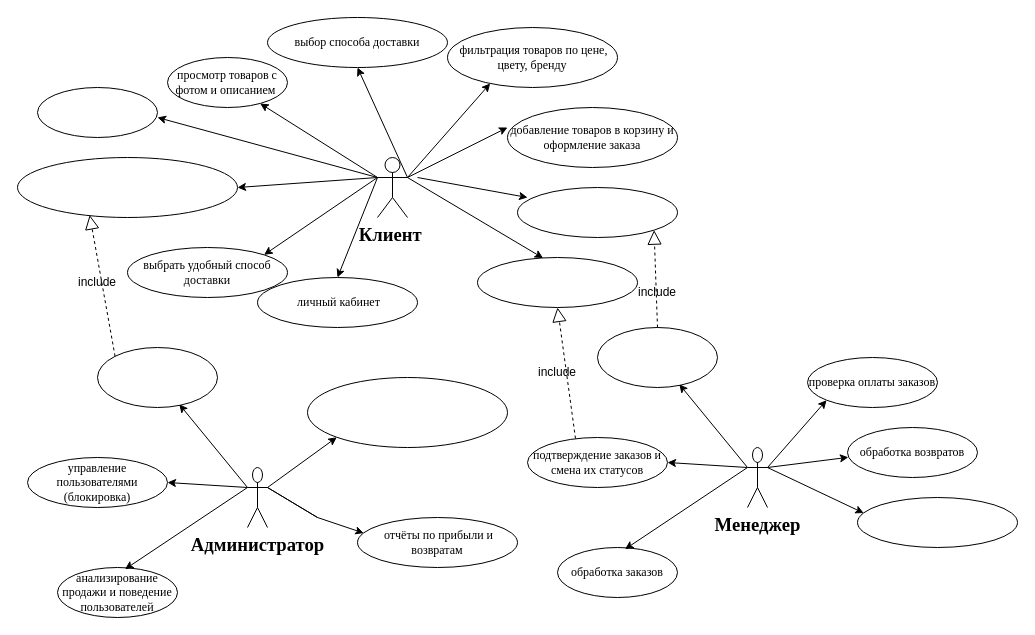
The diagram is 1035 pixels wide and 635 high, and some of its shapes have lost their labels. Each missing label, with the centre of its shape:
"задать вопрос по заказу" belongs at [597,212].
"оставить отзыв" belongs at [97,112].
"отоброжение статуса (доставлен,отправлен)" belongs at [157,377].
"отслеживание товара" belongs at [557,282].
"разрешение спроных ситуаций с проблемными заказми" belongs at [937,522].
"решение вопросов по закзам" belongs at [657,357].
"уведомления о статусе заказа(подтвержден,отправлен,,доставлен)" belongs at [127,187].
"управление катологом(добовлять,редактировать, удалять)" belongs at [407,412].
